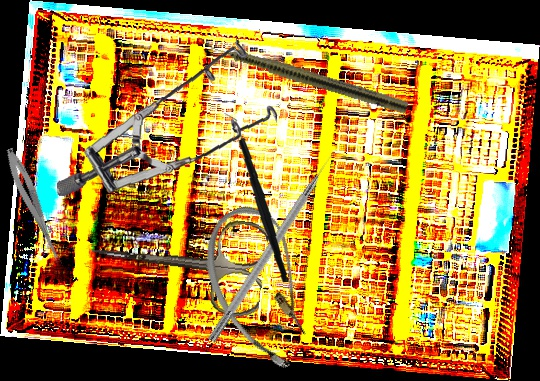Cannula: (183, 194, 342, 381)
Chopper: (214, 112, 298, 283)
Handpiece: (193, 34, 410, 115)
Hook Surgical: (206, 143, 343, 345)
Iris Scissors: (85, 200, 271, 321)
Micro Scissor: (0, 145, 70, 268)
Speculum: (56, 27, 283, 211)
